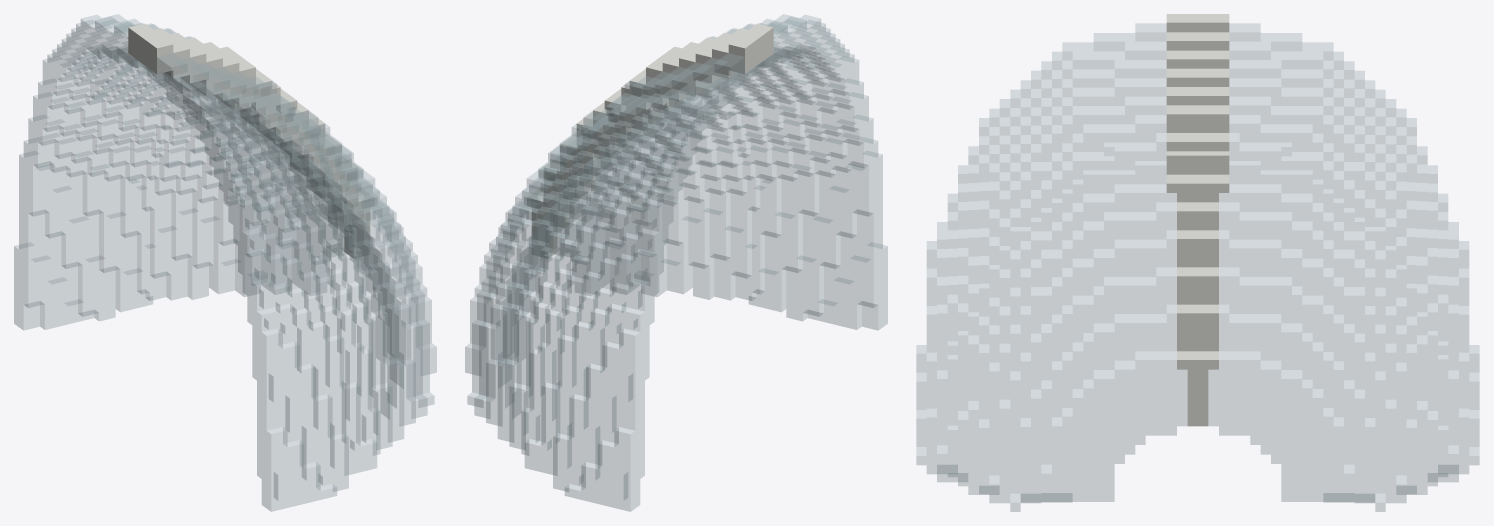
File: air_ambulance_windscreen.glb
3 views of the same model, side by side, from view 1: azimuth 30°, elevation 25°; view 2: azimuth 150°, elevation 25°; view 3: azimuth 270°, elevation 25° (orthographic). The views are drawn at different scales.
Visible parts, largest first — view 1: body:compound; view 2: body:compound; view 3: body:compound.
Part boxes in pixels (left/top/right/bottom): body:compound: left=14, top=14, right=436, bottom=511; body:compound: left=465, top=14, right=887, bottom=511; body:compound: left=916, top=14, right=1479, bottom=511.
Size of the model in its own units: 0.8438 by 1.38 by 1.69.
